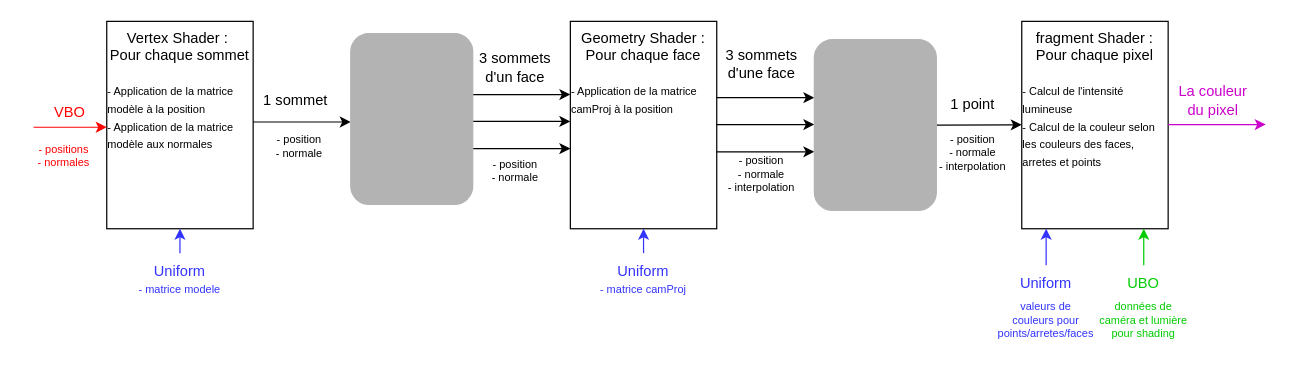
The diagram is 1297 pixels wide and 372 high, and some of its shapes have lost their labels. Each missing label, with the box of its shape:
Connnection des points avec le EBO: (350, 32, 473, 204)
Rasterisation : interpolation des 3 sommets vers un point de la face: (813, 38, 936, 210)
